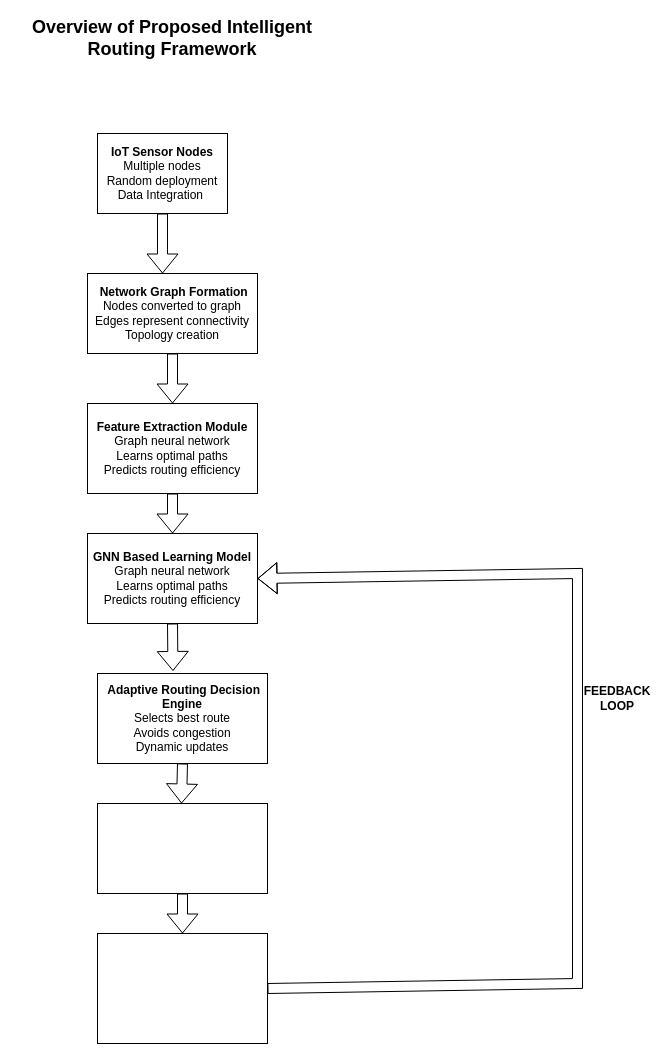
The diagram is 668 pixels wide and 1061 high, and some of its shapes have lost their labels. Each missing label, with the box of its shape:
Data Transmission Packet forwarding Multi hop communication: (96, 802, 268, 894)
Performance Evaluation Metrics PDR Delay Jitter Throughput Energy: (96, 932, 268, 1044)
